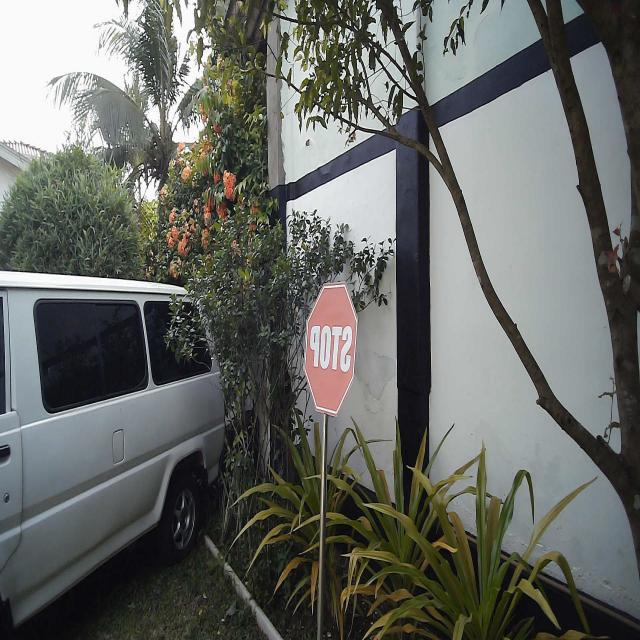stop: (301, 281, 360, 419)
